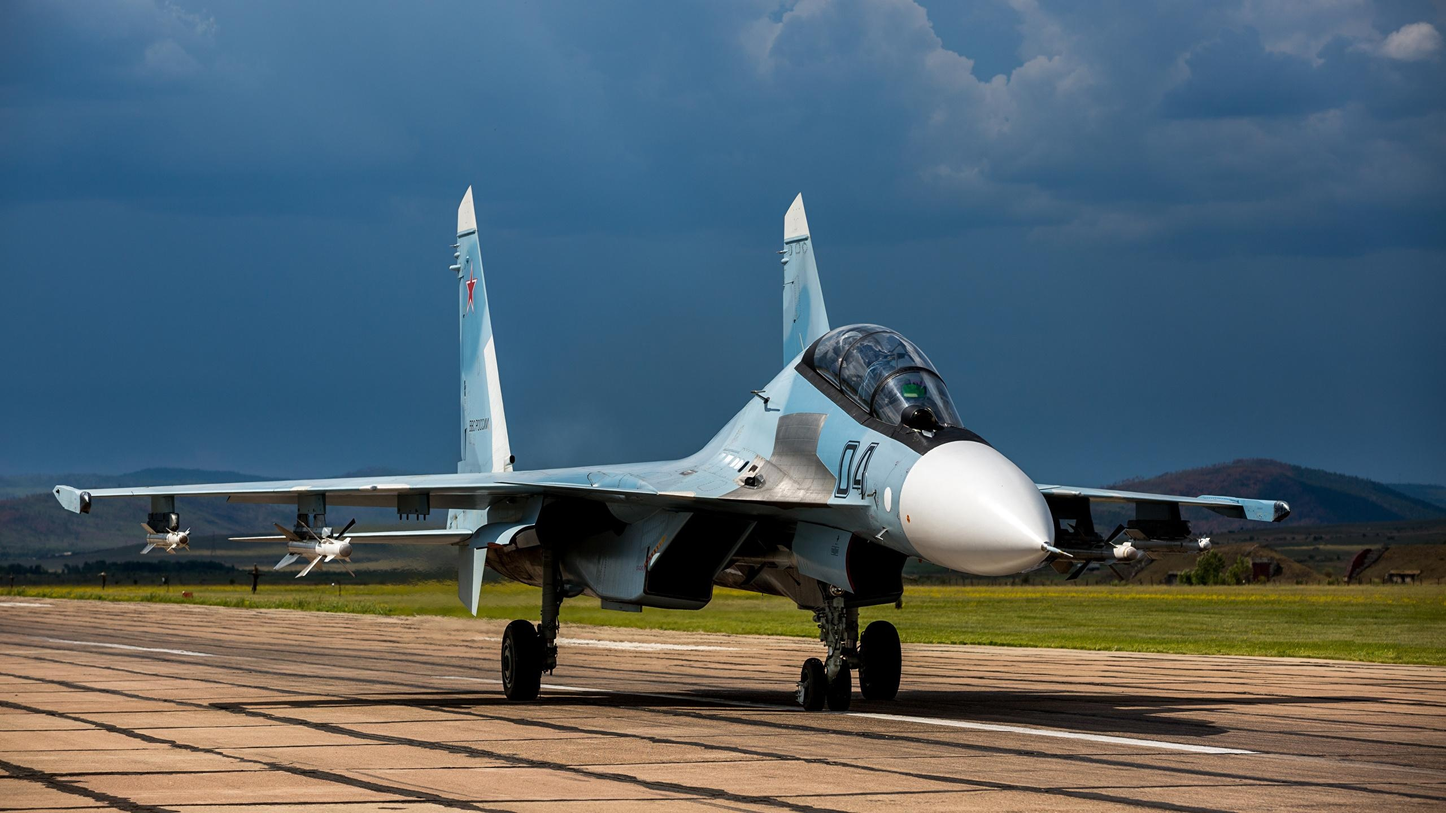aircraft: (6, 185, 1426, 711)
